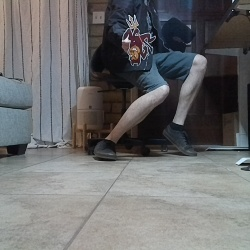sparky: (121, 14, 156, 66)
